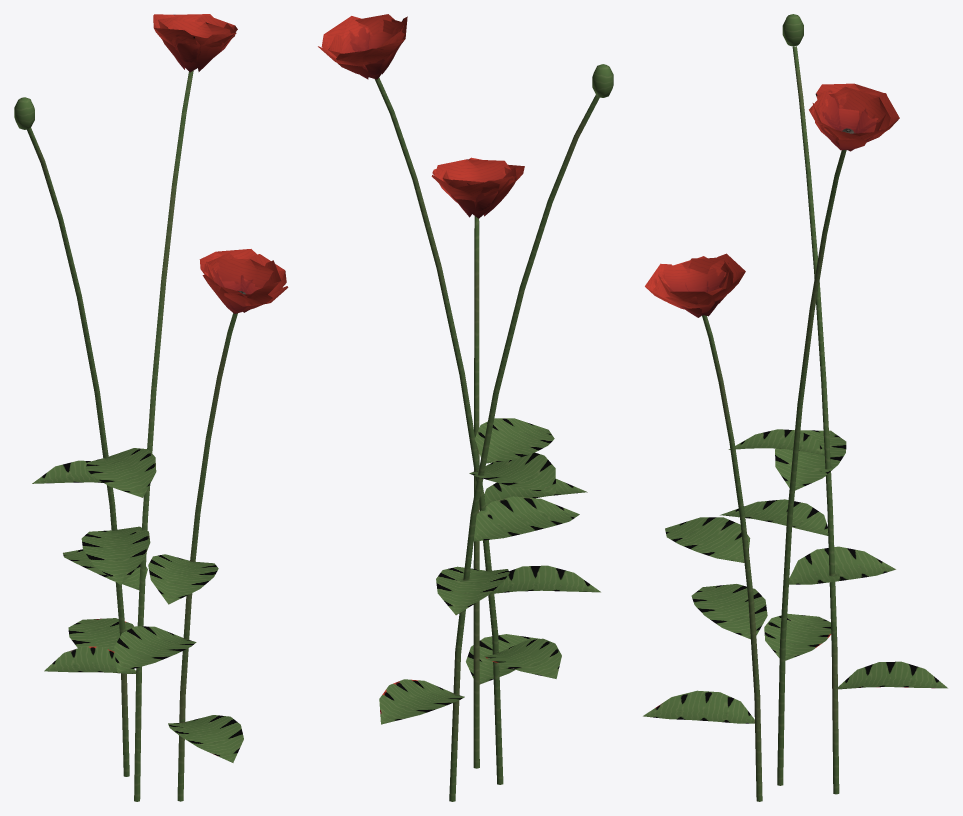
File: SM_Flora_Poppy.fbx
3 views of the same model, side by side, from view 1: azimuth 30°, elevation 25°; view 2: azimuth 150°, elevation 25°; view 3: azimuth 270°, elevation 25° (orthographic). The views are drawn at different scales.
Parts seen in each view (by area): view 1: SM_Flora_Poppy; view 2: SM_Flora_Poppy; view 3: SM_Flora_Poppy.
Boxes of the visible parts, <box> form: SM_Flora_Poppy: <box>14,14,288,801</box>; SM_Flora_Poppy: <box>318,14,613,801</box>; SM_Flora_Poppy: <box>643,14,947,801</box>.
Bounding box in the file's own units: 20.61 × 22.09 × 58.39.
